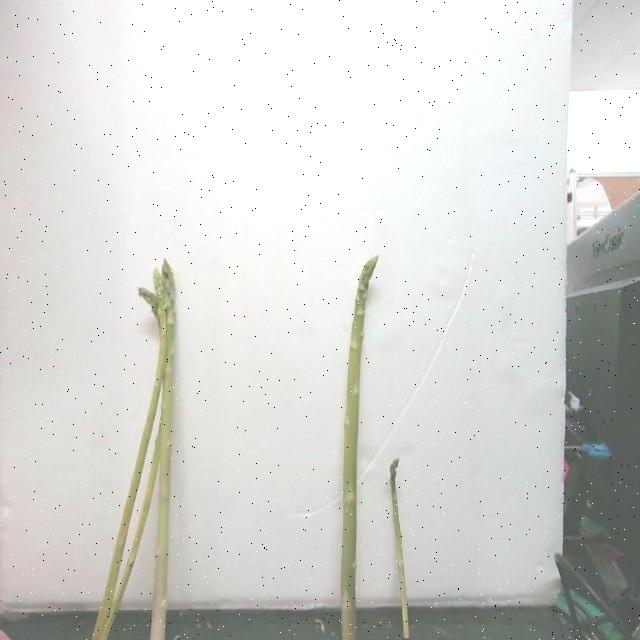aspargus: (341, 257, 379, 640), (149, 262, 177, 640)
